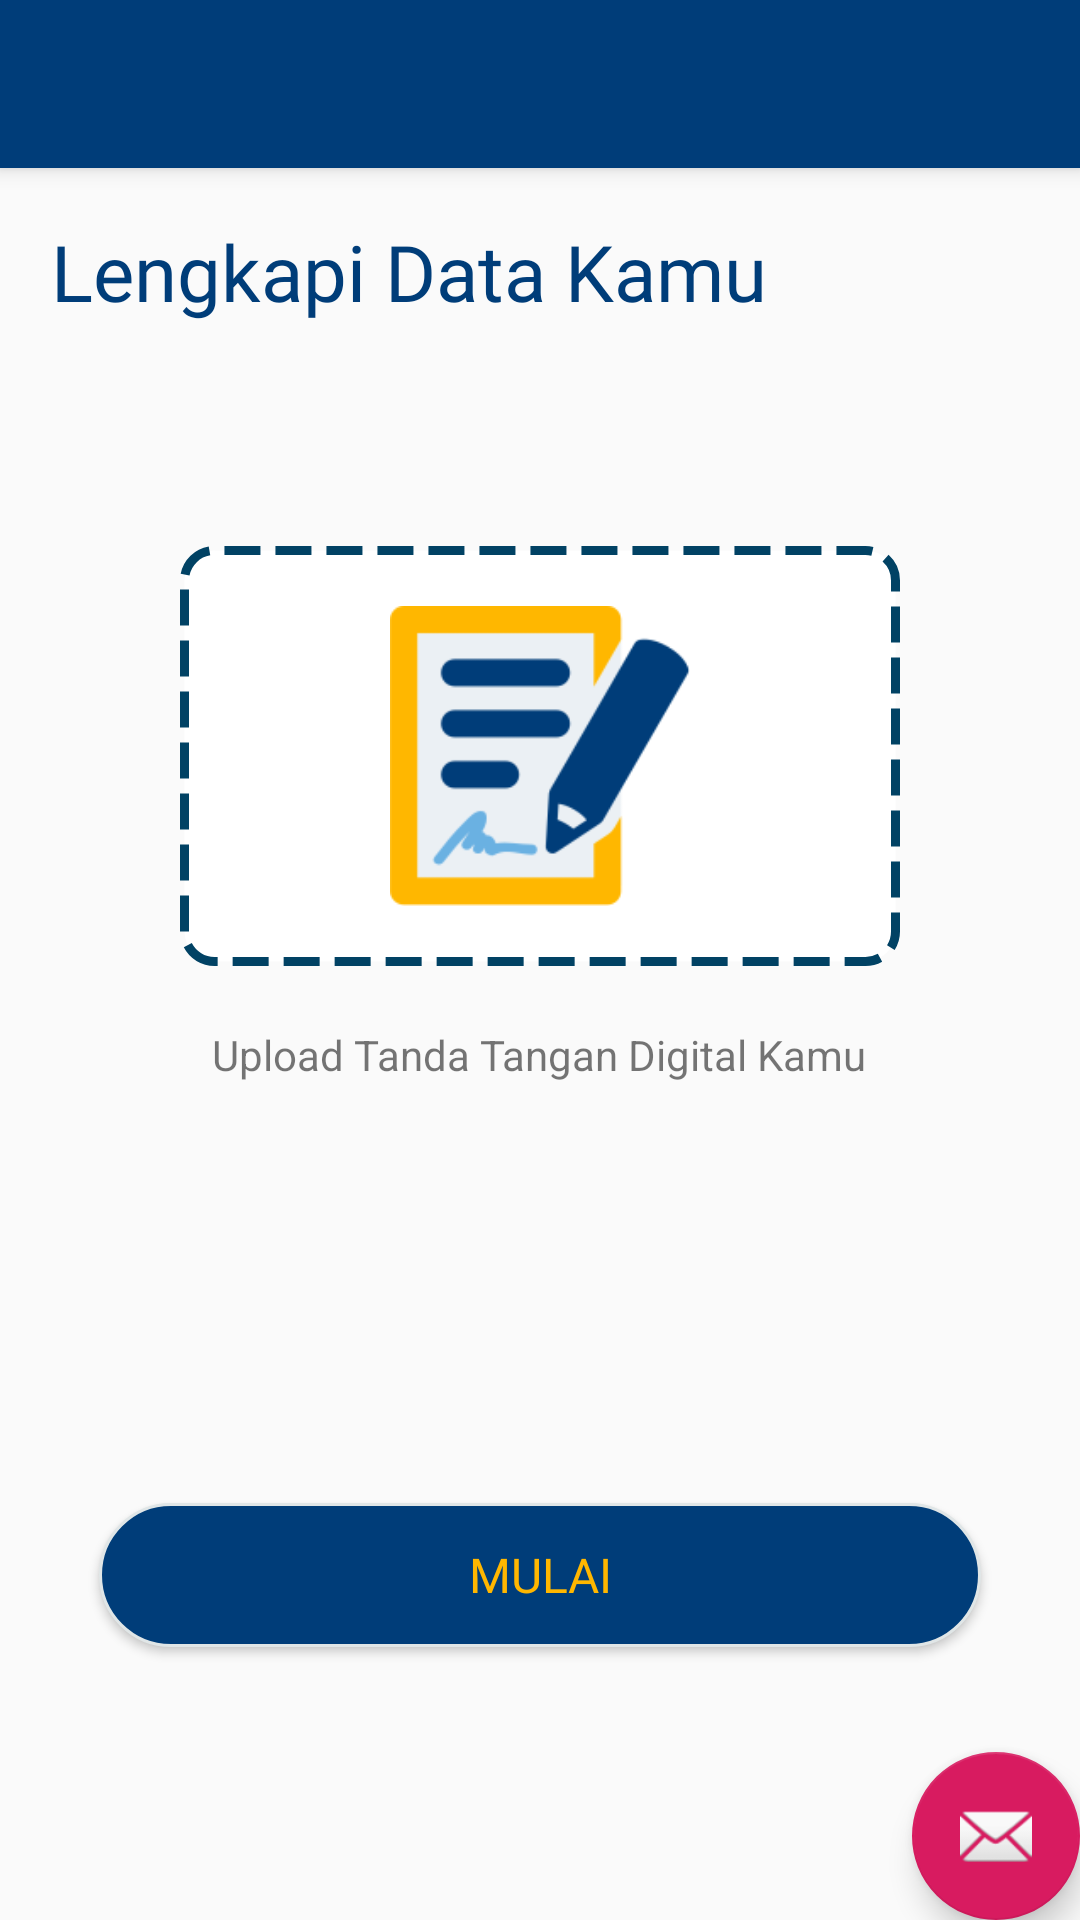

Locate icon controls on the screen. Image size 1080×1920, boxes as detection(x1, y1, x2, y2).
email: detection(912, 1752, 1080, 1920)
signing the contract: detection(390, 606, 689, 906)
